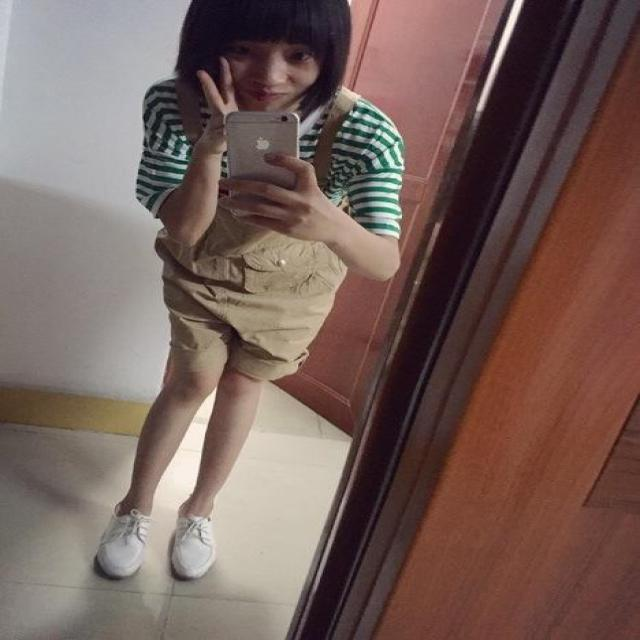short sleeve top: (142, 82, 406, 250)
